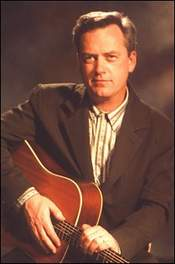guitar: (1, 137, 130, 264)
